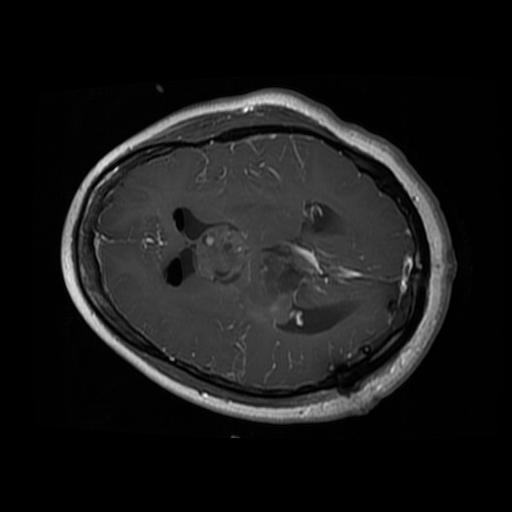glioma: (190, 220, 298, 323)
